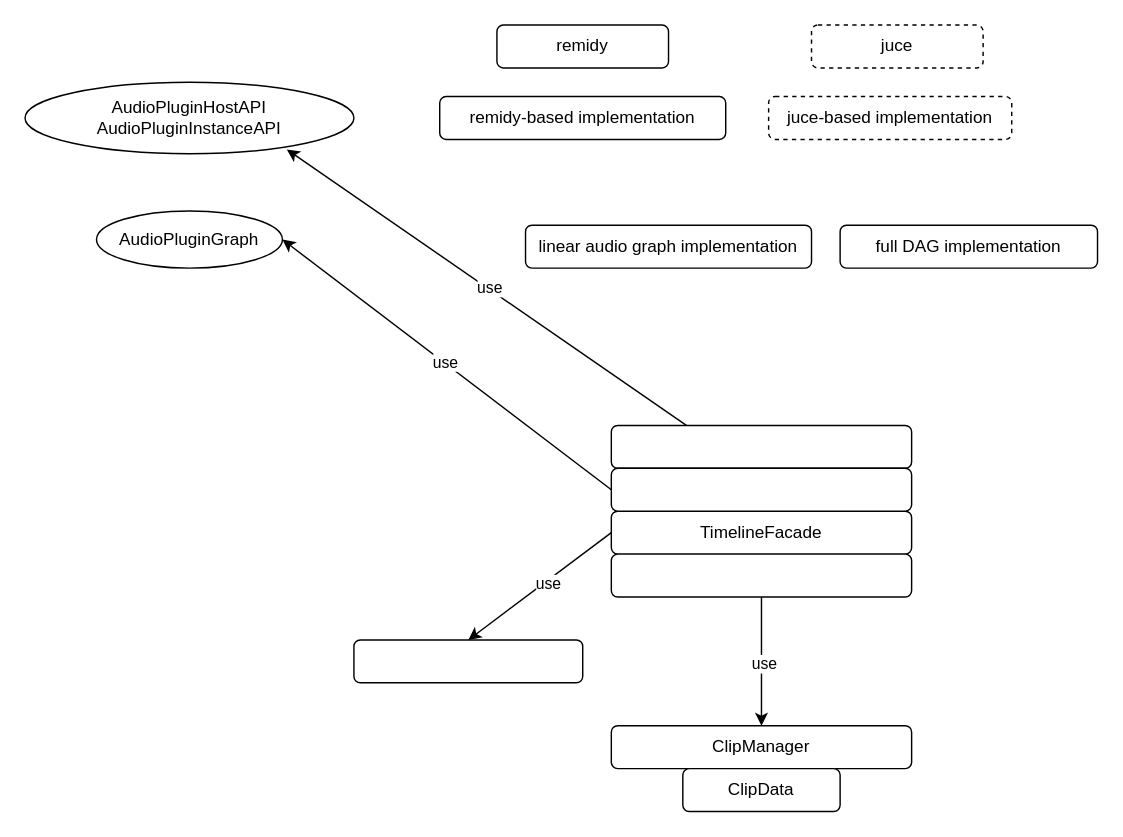
Image size: 1123x837. Some labels were removed from this diagram. Each missing label, with the centre of its shape:
SequencerEngine: (761,446)
SequencerTrack: (761,489)
TimelineTrack: (761,575)
UapmdProjectData: (467,660)
